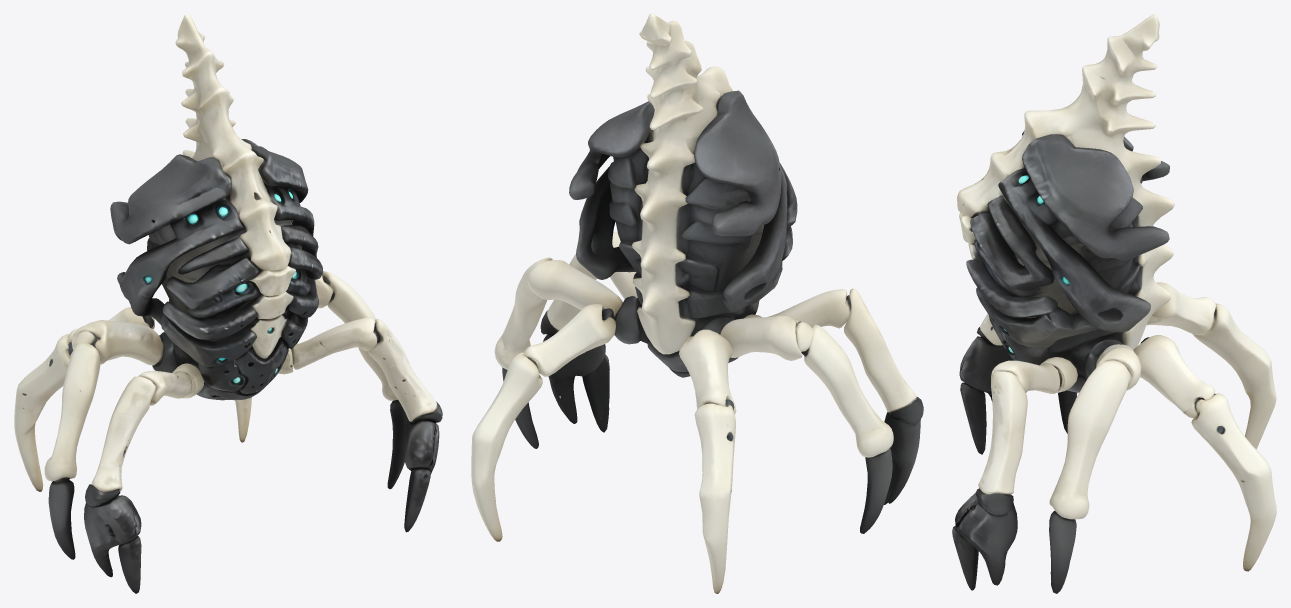
Rendered from enemy_spine_crab.glb.
The picture shows the model from 3 angles, left to right: view 1: azimuth 30°, elevation 25°; view 2: azimuth 150°, elevation 25°; view 3: azimuth 270°, elevation 25°; orthographic projection. The views are drawn at different scales.
Parts seen in each view (by area): view 1: model; view 2: model; view 3: model.
Part boxes in pixels (box(x1,y1,x2,y2)): model: box(14, 14, 442, 593); model: box(471, 14, 923, 593); model: box(952, 14, 1276, 593).
Bounding box in the file's own units: 1.5 × 1.9 × 1.1.
Materials: 1 (1 with a texture image).
